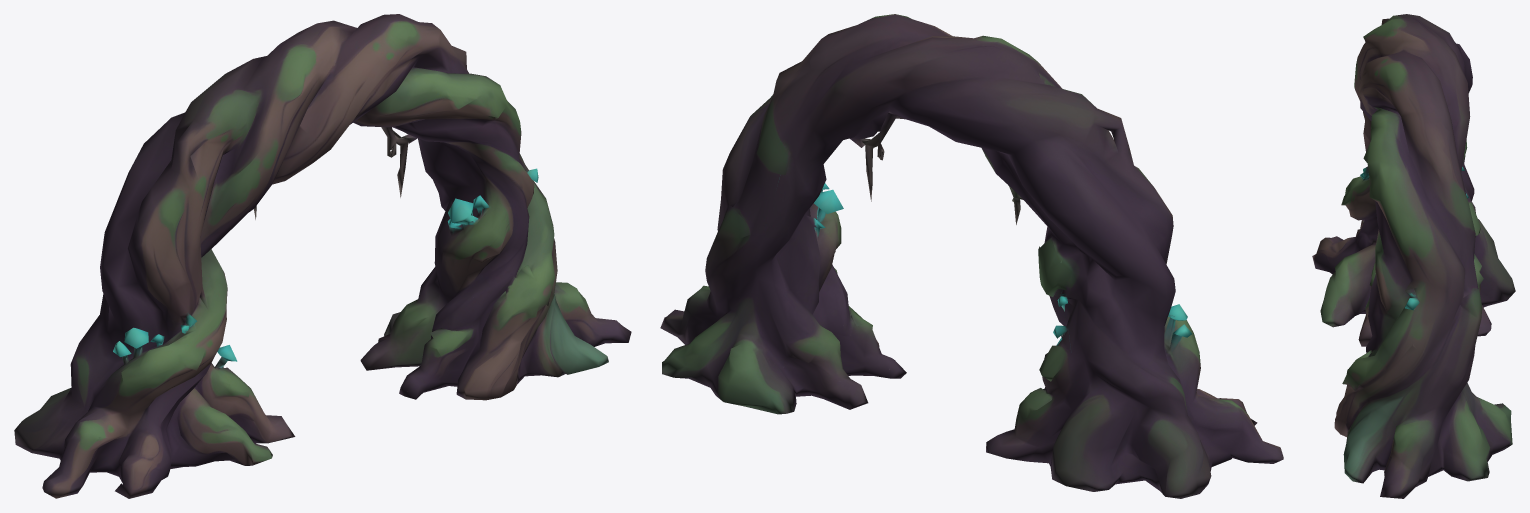
File: env_root_arch_4m_a.glb
3 views of the same model, side by side, from view 1: azimuth 30°, elevation 25°; view 2: azimuth 150°, elevation 25°; view 3: azimuth 270°, elevation 25° (orthographic). The views are drawn at different scales.
Visible parts, largest first — view 1: tripo_node_6f2a0665-3a5f-4e37-8d71-ee5565e9753f; view 2: tripo_node_6f2a0665-3a5f-4e37-8d71-ee5565e9753f; view 3: tripo_node_6f2a0665-3a5f-4e37-8d71-ee5565e9753f.
Boxes of the visible parts, x1=… form: tripo_node_6f2a0665-3a5f-4e37-8d71-ee5565e9753f: x1=14, y1=14, x2=631, y2=498; tripo_node_6f2a0665-3a5f-4e37-8d71-ee5565e9753f: x1=660, y1=14, x2=1283, y2=498; tripo_node_6f2a0665-3a5f-4e37-8d71-ee5565e9753f: x1=1312, y1=14, x2=1515, y2=498.
Bounding box in the file's own units: 1 × 0.5895 × 0.3215.
Materials: 1 (1 with a texture image).
